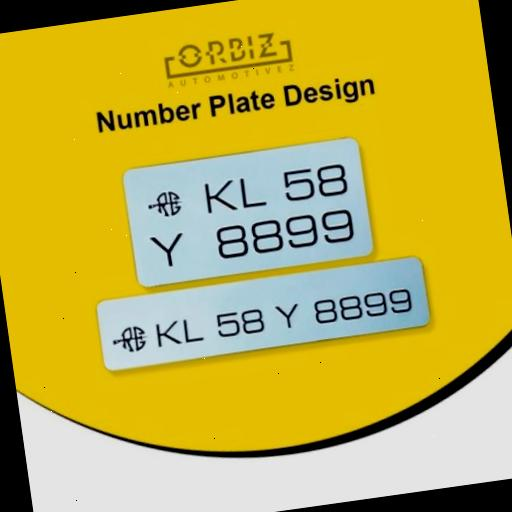number plate: (92, 252, 438, 376), (120, 136, 379, 290)
